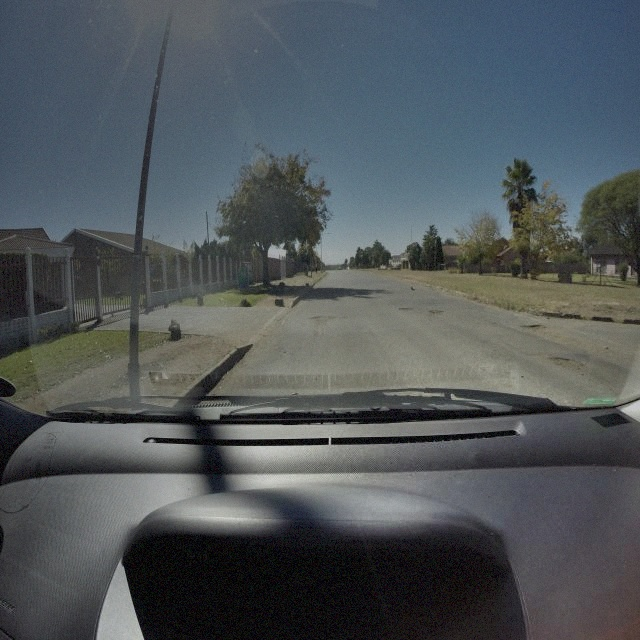pothole: (549, 352, 584, 376), (522, 322, 546, 334), (310, 314, 337, 321), (399, 306, 413, 313), (428, 308, 443, 314)
